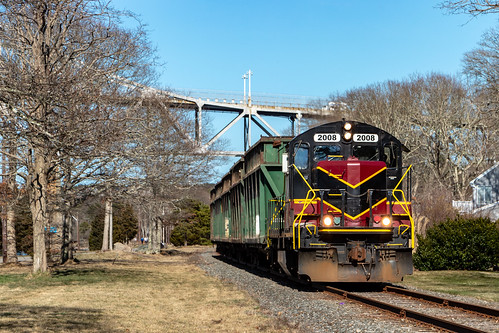bridge: (22, 76, 387, 164)
train: (209, 120, 424, 293)
train track: (320, 264, 499, 333)
tree: (1, 7, 164, 277), (91, 92, 206, 256)
vegetation: (366, 69, 490, 212), (422, 219, 499, 273)
